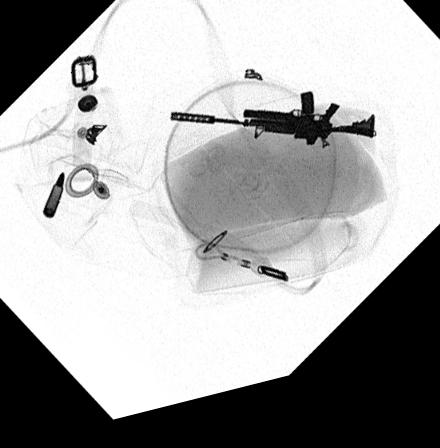Bullet: (42, 175, 64, 220)
Gun: (167, 106, 374, 162)
